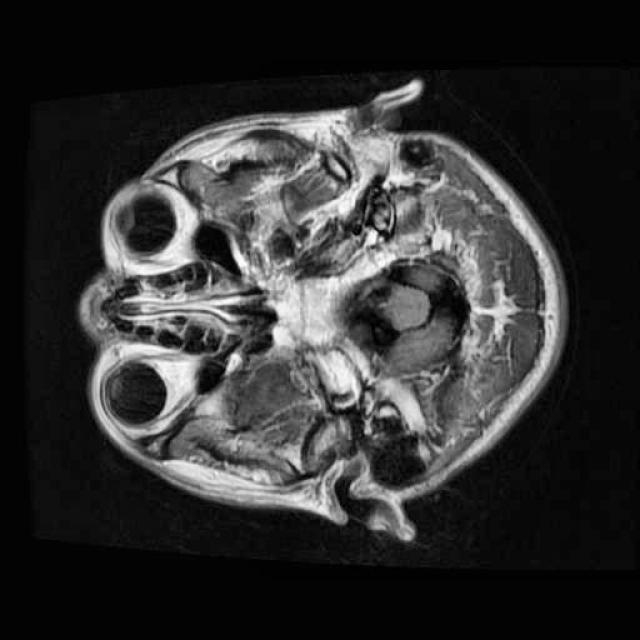Non-Tumor: (340, 248, 482, 386)
